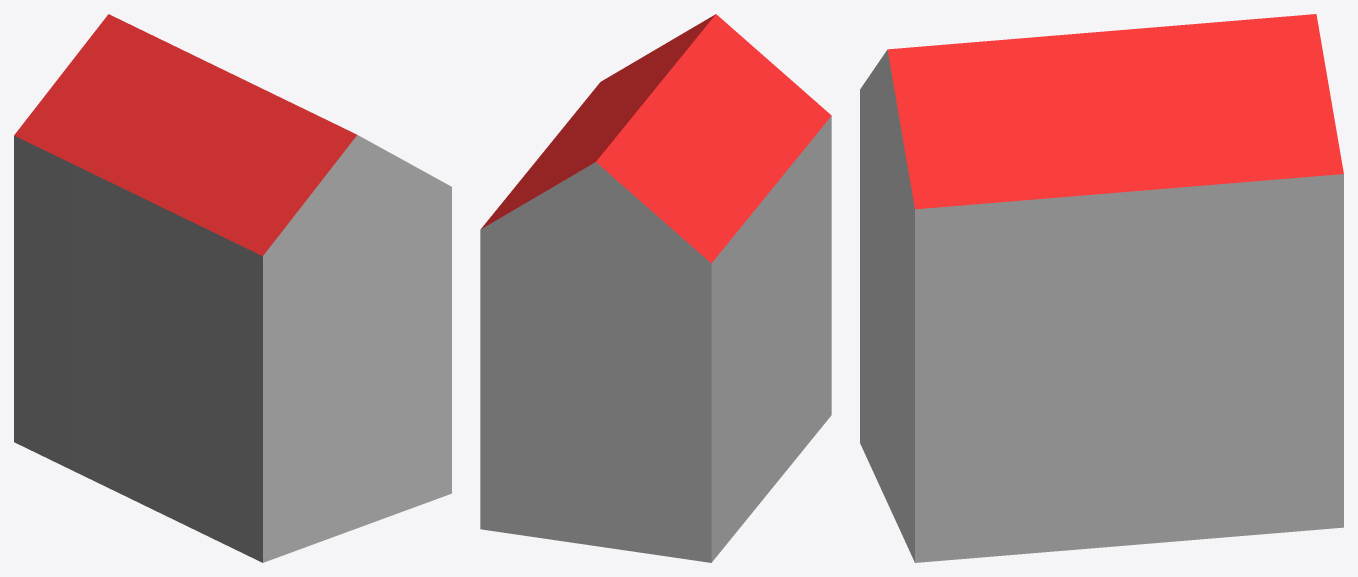
Rendered from DEBY_LOD2_4779552.dae.
The picture shows the model from 3 angles, left to right: view 1: azimuth 30°, elevation 25°; view 2: azimuth 150°, elevation 25°; view 3: azimuth 270°, elevation 25°; orthographic projection. The views are drawn at different scales.
Size of the model in its own units: 14.4 by 18.97 by 19.63.
